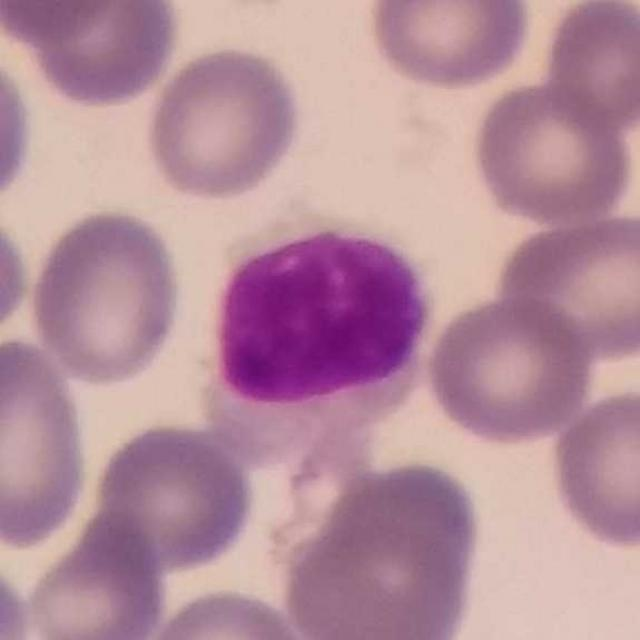Lymphocyte: (196, 197, 432, 486)
RBC: (277, 456, 488, 640), (23, 202, 188, 390), (85, 416, 259, 578), (422, 290, 598, 448), (140, 41, 306, 204), (468, 77, 636, 229), (492, 207, 640, 362), (0, 333, 95, 552), (17, 510, 169, 640), (11, 0, 184, 110), (545, 382, 640, 554), (361, 0, 536, 92), (537, 0, 640, 131), (129, 583, 320, 640), (0, 39, 38, 209), (1, 0, 124, 46), (0, 203, 33, 354), (0, 552, 36, 640)
